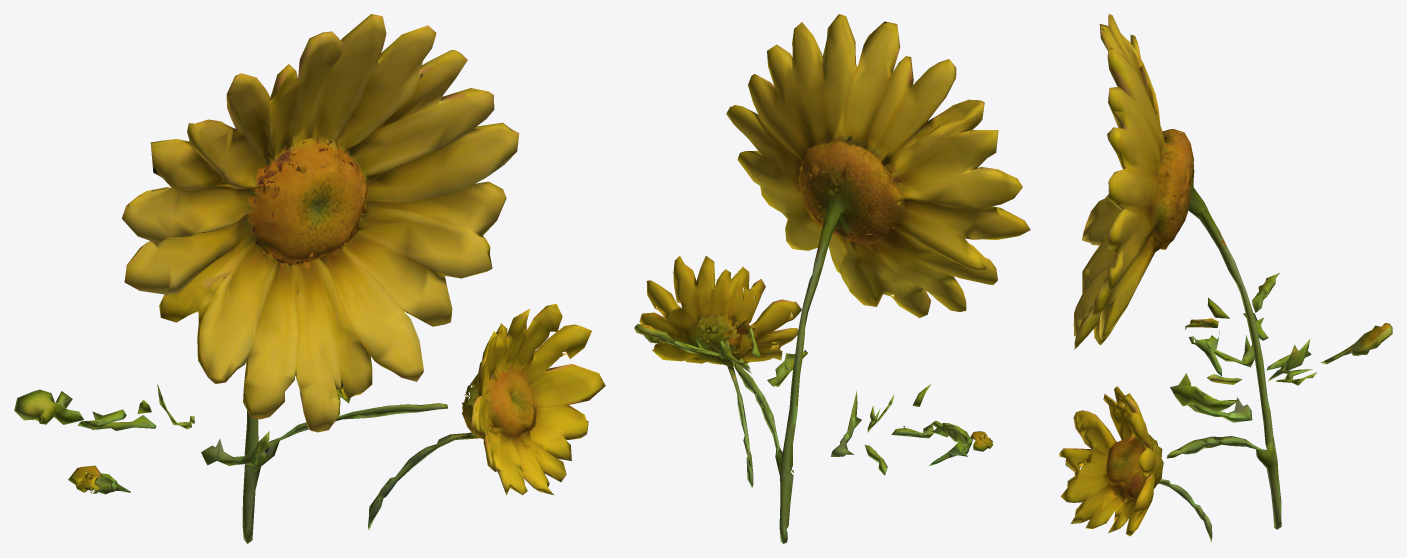
File: margarita.glb
The picture shows the model from 3 angles, left to right: view 1: azimuth 30°, elevation 25°; view 2: azimuth 150°, elevation 25°; view 3: azimuth 270°, elevation 25°; orthographic projection. The views are drawn at different scales.
Size of the model in its own units: 1.77 by 1.98 by 1.22.
1 material, 1 textured.
